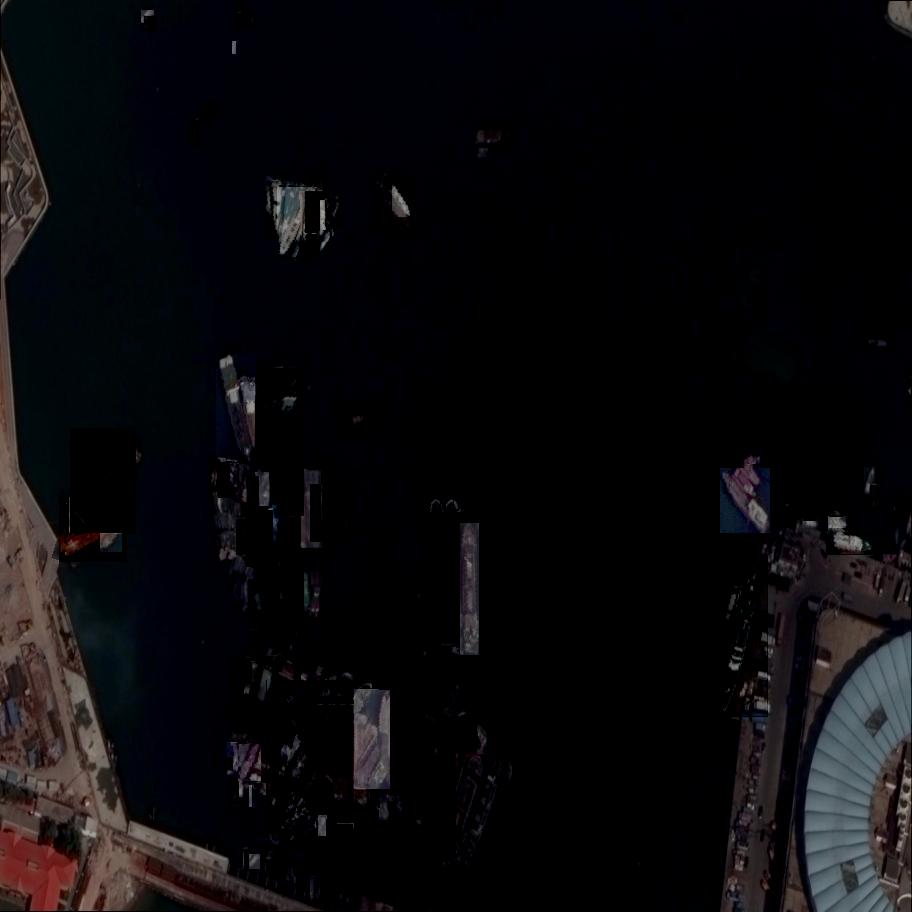ship: (264, 681, 384, 852), (417, 757, 512, 863), (423, 512, 489, 644), (716, 555, 768, 717), (260, 676, 329, 796), (66, 428, 141, 535), (311, 705, 384, 809), (400, 688, 454, 820), (353, 690, 421, 790), (251, 656, 303, 783), (455, 754, 509, 876), (262, 366, 304, 519), (230, 651, 294, 744), (51, 498, 137, 562), (436, 717, 479, 843), (422, 704, 458, 830), (216, 355, 256, 464), (716, 467, 775, 533), (429, 499, 454, 635), (277, 187, 320, 259), (370, 176, 419, 234), (460, 524, 480, 655), (298, 690, 320, 798), (232, 659, 261, 734), (391, 689, 411, 796), (406, 696, 426, 792), (282, 565, 309, 634), (322, 470, 345, 541), (303, 470, 323, 548), (858, 307, 902, 342), (245, 507, 270, 568), (312, 484, 336, 543), (243, 378, 260, 461), (355, 714, 370, 808), (294, 465, 309, 556), (274, 570, 294, 632), (257, 376, 271, 463), (335, 412, 385, 435), (264, 560, 279, 636), (305, 192, 332, 234), (304, 571, 327, 620), (825, 532, 876, 554), (280, 181, 296, 248), (249, 579, 270, 629), (731, 471, 766, 501), (722, 584, 742, 633), (227, 671, 245, 723), (238, 745, 263, 782), (256, 510, 274, 558), (270, 181, 284, 241), (390, 187, 416, 218), (100, 520, 124, 552), (743, 454, 763, 492), (475, 128, 510, 149), (217, 462, 237, 498), (266, 505, 283, 546), (302, 192, 315, 244), (227, 742, 246, 775), (255, 472, 272, 506), (238, 522, 255, 555), (325, 199, 344, 227), (868, 329, 892, 351), (262, 181, 277, 216), (337, 485, 346, 537), (300, 571, 311, 612), (237, 520, 249, 556), (237, 464, 248, 503), (313, 878, 329, 904), (271, 856, 288, 880), (202, 102, 219, 126), (189, 120, 204, 147), (320, 873, 334, 901), (263, 479, 276, 509), (376, 793, 390, 820), (336, 825, 356, 843), (251, 632, 263, 662), (325, 819, 337, 846), (208, 460, 220, 487), (864, 468, 876, 494), (238, 741, 248, 772), (242, 478, 252, 509), (319, 231, 333, 253), (235, 13, 254, 29), (342, 829, 359, 846), (251, 476, 260, 507), (244, 850, 257, 871), (827, 516, 848, 529), (319, 821, 335, 838), (213, 465, 224, 489), (264, 851, 275, 874), (321, 200, 328, 235), (143, 17, 158, 33), (895, 497, 905, 520), (248, 855, 263, 870), (892, 494, 901, 519), (265, 861, 281, 875), (279, 867, 287, 893), (870, 485, 878, 511), (141, 11, 157, 24), (252, 776, 269, 788), (318, 817, 328, 836), (802, 510, 818, 521), (270, 795, 279, 814), (875, 545, 894, 554), (324, 890, 332, 911), (802, 519, 820, 528), (230, 464, 237, 487), (221, 459, 226, 490), (225, 757, 236, 771), (286, 800, 295, 816), (233, 780, 239, 804), (237, 778, 244, 798), (828, 510, 843, 519), (313, 836, 322, 851), (284, 798, 291, 816), (243, 847, 249, 868), (244, 789, 252, 804), (335, 886, 340, 910), (263, 787, 270, 803), (357, 789, 363, 807), (311, 875, 315, 902), (828, 526, 846, 532), (277, 800, 285, 813), (364, 792, 370, 808), (236, 465, 239, 492), (288, 869, 291, 894), (281, 802, 286, 815), (247, 545, 252, 558), (150, 808, 153, 825), (362, 792, 365, 807), (250, 786, 252, 807), (233, 41, 236, 54), (377, 798, 379, 817), (267, 792, 270, 804), (270, 793, 272, 811)
